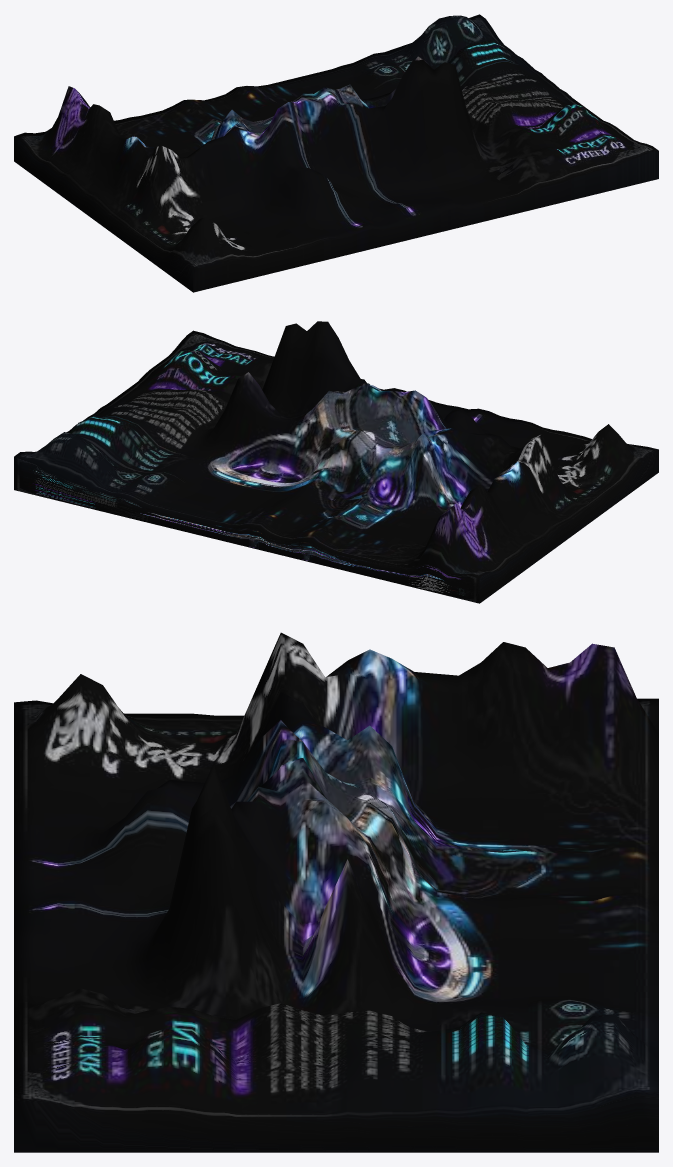
Rendered from CAREER_03_Tool_04_Drone.glb.
3 renders of one model, top to bottom at view 1: azimuth 30°, elevation 25°; view 2: azimuth 150°, elevation 25°; view 3: azimuth 270°, elevation 25°, orthographic. The views are drawn at different scales.
Parts seen in each view (by area): view 1: CAREER_03_Tool_04_Drone; view 2: CAREER_03_Tool_04_Drone; view 3: CAREER_03_Tool_04_Drone.
Boxes of the visible parts, <box> form: CAREER_03_Tool_04_Drone: <box>14,14,658,292</box>; CAREER_03_Tool_04_Drone: <box>14,321,658,603</box>; CAREER_03_Tool_04_Drone: <box>14,632,658,1152</box>.
Bounding box in the file's own units: 2 × 0.51 × 1.33.
1 material, 1 textured.
